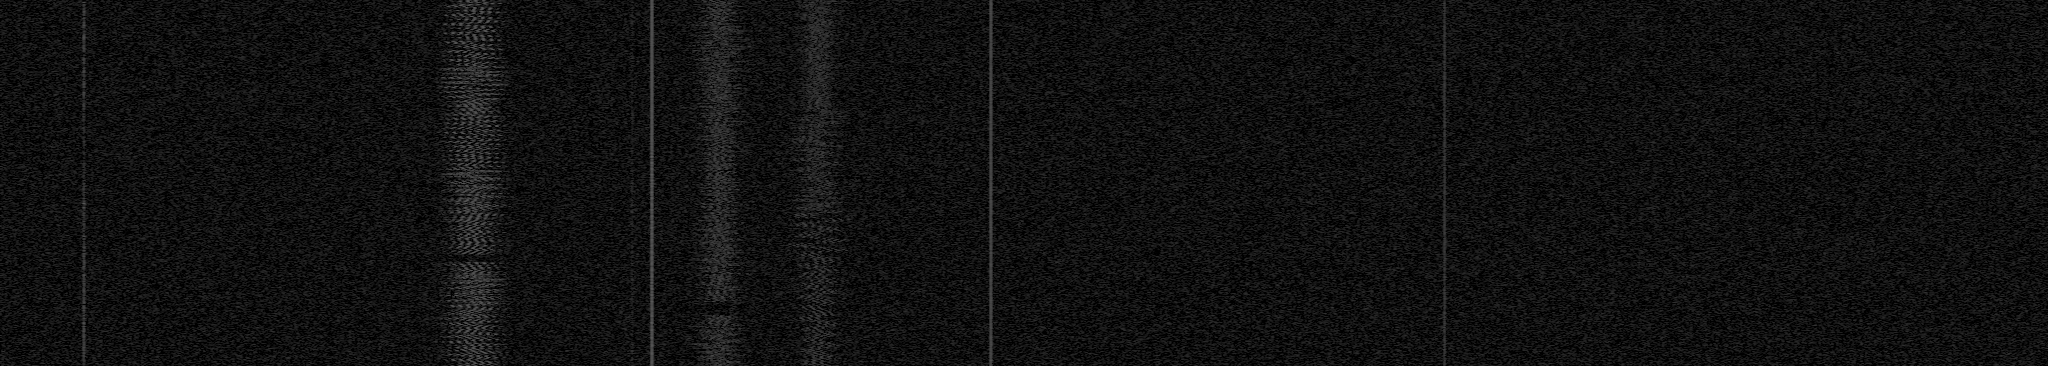wv_am: (649, 0, 654, 366), (630, 0, 633, 208), (630, 209, 635, 348), (630, 356, 635, 362), (630, 349, 635, 354)
wv_cw: (987, 0, 994, 366), (1442, 0, 1447, 366)
wv_usb: (81, 1, 88, 314), (81, 315, 88, 366)
wv_wbfm: (780, 0, 856, 366), (680, 0, 760, 302), (432, 0, 521, 255), (434, 261, 515, 366), (679, 315, 756, 366)
